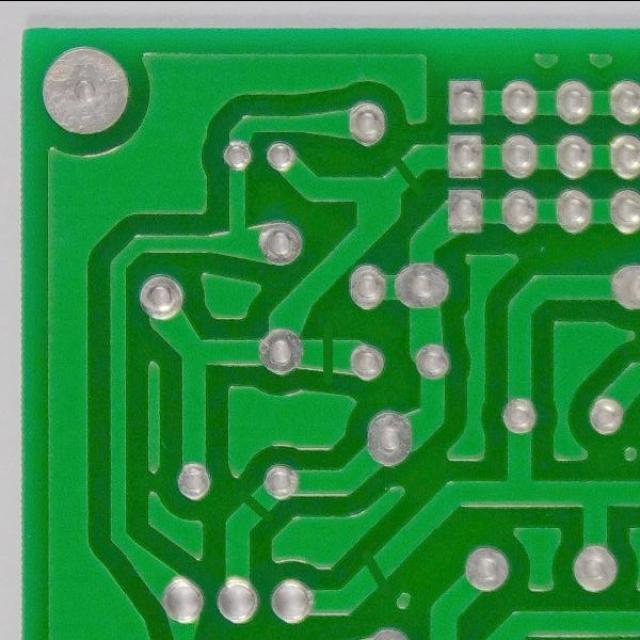open_circuit: (314, 323, 344, 381), (236, 485, 273, 526), (390, 152, 420, 198), (362, 554, 389, 594)
